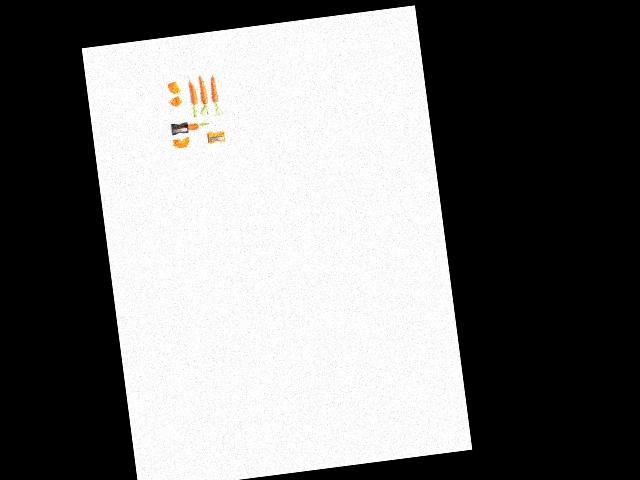carrot: (184, 78, 202, 109)
